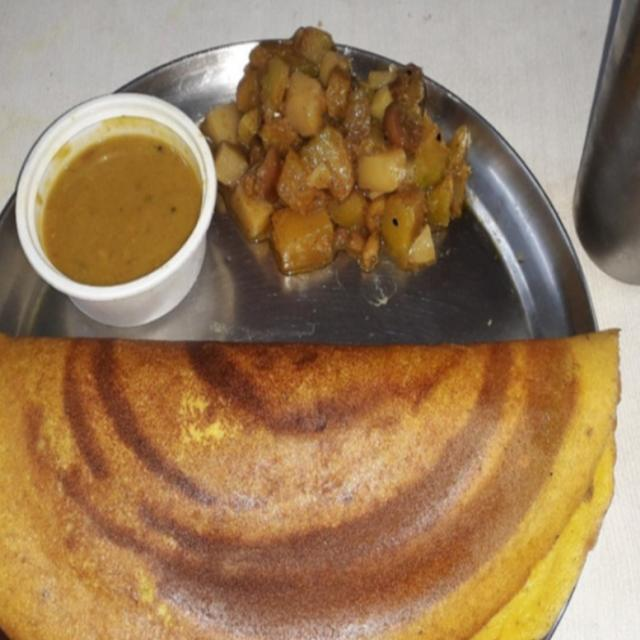CURRY: (201, 27, 469, 274)
DOSA: (0, 331, 619, 639)
SAMBAR: (40, 135, 202, 284), (298, 197, 301, 205)
